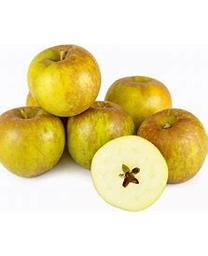apple: (90, 136, 169, 210), (26, 43, 100, 116), (136, 107, 207, 183), (68, 102, 136, 170), (0, 107, 65, 178), (104, 73, 173, 128)
